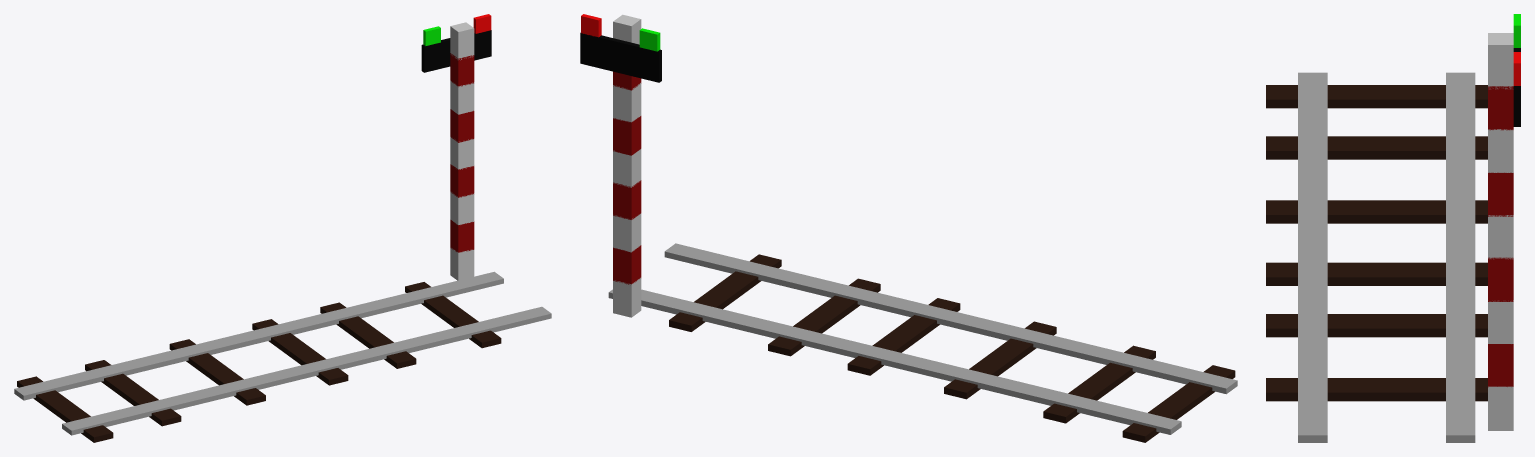
File: vias de tren.obj
The picture shows the model from 3 angles, left to right: view 1: azimuth 30°, elevation 25°; view 2: azimuth 150°, elevation 25°; view 3: azimuth 270°, elevation 25°; orthographic projection. The views are drawn at different scales.
Parts seen in each view (by area): view 1: Cubo, Cubo.001, Cubo.007, Cubo.005, Cubo.003, Cubo.006, Cubo.004, Cubo.002, Cubo.017_Cubo.018, Cubo.016, Cubo.010_Cubo.009, Cubo.014 (+6 smaller); view 2: Cubo, Cubo.001, Cubo.017_Cubo.018, Cubo.007, Cubo.004, Cubo.006, Cubo.002, Cubo.005, Cubo.003, Cubo.008_Cubo.010, Cubo.010_Cubo.009, Cubo.014 (+5 smaller); view 3: Cubo, Cubo.001, Cubo.003, Cubo.004, Cubo.002, Cubo.005, Cubo.006, Cubo.007, Cubo.016, Cubo.008_Cubo.010, Cubo.010_Cubo.009, Cubo.013 (+8 smaller).
Boxes of the visible parts, bbox=[...] form: Cubo: bbox=[62, 306, 551, 435]; Cubo.001: bbox=[14, 271, 503, 400]; Cubo.007: bbox=[252, 319, 348, 385]; Cubo.005: bbox=[405, 282, 501, 348]; Cubo.003: bbox=[85, 360, 181, 426]; Cubo.006: bbox=[320, 302, 416, 368]; Cubo.004: bbox=[169, 339, 265, 405]; Cubo.002: bbox=[17, 376, 113, 442]; Cubo.017_Cubo.018: bbox=[421, 30, 491, 72]; Cubo.016: bbox=[450, 22, 474, 60]; Cubo.010_Cubo.009: bbox=[450, 164, 474, 197]; Cubo.014: bbox=[450, 109, 474, 142]; Cubo: bbox=[664, 243, 1237, 394]; Cubo.001: bbox=[608, 289, 1181, 434]; Cubo.017_Cubo.018: bbox=[580, 32, 661, 82]; Cubo.007: bbox=[847, 298, 960, 375]; Cubo.004: bbox=[944, 321, 1056, 399]; Cubo.006: bbox=[768, 278, 880, 356]; Cubo.002: bbox=[1122, 365, 1235, 442]; Cubo.005: bbox=[669, 254, 781, 331]; Cubo.003: bbox=[1043, 345, 1155, 423]; Cubo.008_Cubo.010: bbox=[613, 277, 641, 317]; Cubo.010_Cubo.009: bbox=[613, 180, 641, 219]; Cubo.014: bbox=[613, 116, 641, 155]; Cubo: bbox=[1298, 72, 1327, 442]; Cubo.001: bbox=[1446, 72, 1475, 442]; Cubo.003: bbox=[1266, 136, 1487, 159]; Cubo.004: bbox=[1266, 200, 1487, 223]; Cubo.002: bbox=[1266, 85, 1487, 108]; Cubo.005: bbox=[1266, 378, 1487, 401]; Cubo.006: bbox=[1266, 314, 1487, 337]; Cubo.007: bbox=[1266, 262, 1487, 285]; Cubo.016: bbox=[1488, 33, 1513, 89]; Cubo.008_Cubo.010: bbox=[1488, 386, 1513, 430]; Cubo.010_Cubo.009: bbox=[1488, 257, 1513, 301]; Cubo.013: bbox=[1488, 86, 1513, 130].
Size of the model in its own units: 29.66 by 14.61 by 8.63.
